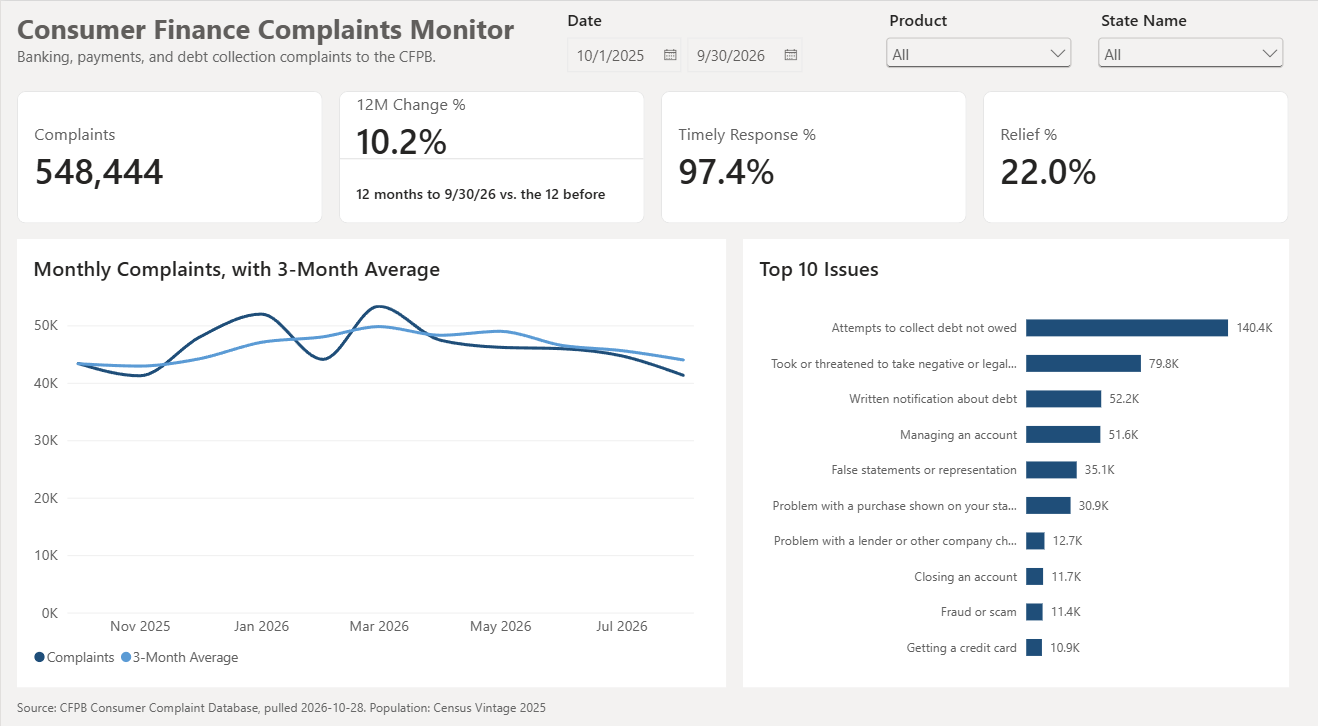

The dashboard page shown, as its layout file describes it:
{"tool":"powerbi","page":{"name":"Overview","canvas":[1920,1080],"ordinal":0},"visuals":[{"type":"textbox","box":[16,8,520,63],"z":0},{"type":"slicer","fields":{"Values":["dim_Date.Date"]},"box":[548,8,300,72],"z":1000},{"type":"slicer","fields":{"Values":["dim_State.State Name"]},"box":[1072,8,192,72],"z":2000},{"type":"cardVisual","fields":{"Data":["_Measures.Complaints Exact"]},"box":[16,88,300,130],"z":3000},{"type":"cardVisual","fields":{"Data":["_Measures.12M Change %"]},"box":[332,88,300,130],"z":4000},{"type":"cardVisual","fields":{"Data":["_Measures.Timely Response %"]},"box":[648,88,300,130],"z":5000},{"type":"cardVisual","fields":{"Data":["_Measures.Relief %"]},"box":[964,88,300,130],"z":6000},{"type":"lineChart","title":"Monthly Complaints, with 3-Month Average","fields":{"Category":["dim_Date.Month Start"],"Y":["_Measures.Complaints","_Measures.Complaints Rolling 3M Avg"]},"box":[16,234,696,440],"z":7000},{"type":"clusteredBarChart","title":"Top 10 Issues","fields":{"Category":["dim_Issue.Issue"],"Y":["_Measures.Complaints"]},"box":[728,234,536,440],"z":8000},{"type":"textbox","box":[16,684,1248,28],"z":9000},{"type":"slicer","fields":{"Values":["dim_Product.Product"]},"box":[864,8,192,72],"z":10000}]}

Visuals, with their boxes in screenshot pixels (x1, y1, x2, y2), scaled from the page's 1920x1080 canvas onto the 1318x726 screenshot:
textbox: x1=11 y1=5 x2=368 y2=48
slicer - dim_Date.Date: x1=376 y1=5 x2=582 y2=54
slicer - dim_State.State Name: x1=736 y1=5 x2=868 y2=54
cardVisual - _Measures.Complaints Exact: x1=11 y1=59 x2=217 y2=147
cardVisual - _Measures.12M Change %: x1=228 y1=59 x2=434 y2=147
cardVisual - _Measures.Timely Response %: x1=445 y1=59 x2=651 y2=147
cardVisual - _Measures.Relief %: x1=662 y1=59 x2=868 y2=147
"Monthly Complaints, with 3-Month Average" lineChart: x1=11 y1=157 x2=489 y2=453
"Top 10 Issues" clusteredBarChart: x1=500 y1=157 x2=868 y2=453
textbox: x1=11 y1=460 x2=868 y2=479
slicer - dim_Product.Product: x1=593 y1=5 x2=725 y2=54
